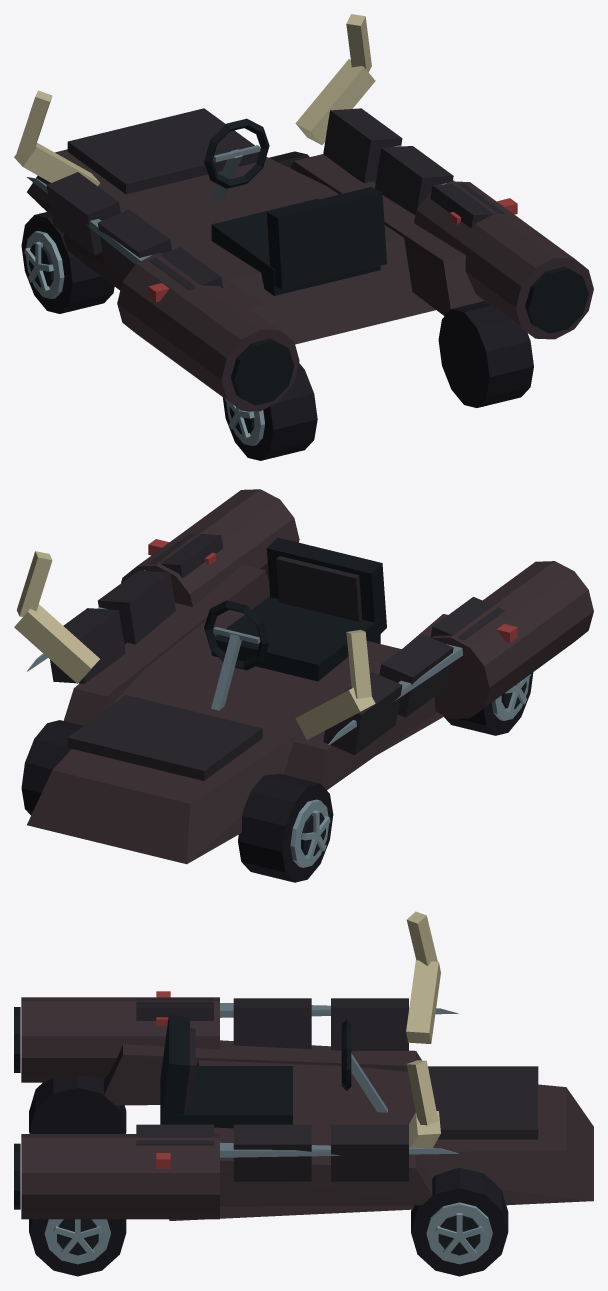
Rendered from kart.glb.
3 renders of one model, top to bottom at view 1: azimuth 30°, elevation 25°; view 2: azimuth 150°, elevation 25°; view 3: azimuth 270°, elevation 25°, orthographic. The views are drawn at different scales.
Visible parts, largest first — view 1: identity-speeder-speeder-long-cowl-and-stern-turbines, identity-speeder-motif-armor, identity-speeder-driver-cockpit, wheel-rear-right, identity-speeder-motif-horns, wheel-front-left, wheel-rear-left, identity-speeder-motif-swords; view 2: identity-speeder-speeder-long-cowl-and-stern-turbines, identity-speeder-driver-cockpit, identity-speeder-motif-armor, wheel-front-left, identity-speeder-motif-horns, wheel-front-right, wheel-rear-left, identity-speeder-motif-swords; view 3: identity-speeder-speeder-long-cowl-and-stern-turbines, identity-speeder-motif-armor, identity-speeder-driver-cockpit, wheel-front-right, identity-speeder-motif-horns, wheel-rear-left, wheel-rear-right, identity-speeder-motif-swords.
Boxes of the visible parts, x1=… form: identity-speeder-speeder-long-cowl-and-stern-turbines: x1=27, y1=108, x2=593, y2=411; identity-speeder-motif-armor: x1=46, y1=108, x2=504, y2=290; identity-speeder-driver-cockpit: x1=204, y1=118, x2=386, y2=295; wheel-rear-right: x1=438, y1=301, x2=533, y2=407; identity-speeder-motif-horns: x1=14, y1=14, x2=375, y2=186; wheel-front-left: x1=21, y1=211, x2=114, y2=313; wheel-rear-left: x1=223, y1=363, x2=317, y2=460; identity-speeder-motif-swords: x1=27, y1=145, x2=517, y2=301; identity-speeder-speeder-long-cowl-and-stern-turbines: x1=27, y1=489, x2=593, y2=864; identity-speeder-driver-cockpit: x1=204, y1=537, x2=386, y2=710; identity-speeder-motif-armor: x1=50, y1=533, x2=504, y2=755; wheel-front-left: x1=238, y1=773, x2=333, y2=882; identity-speeder-motif-horns: x1=14, y1=551, x2=375, y2=739; wheel-front-right: x1=21, y1=720, x2=83, y2=815; wheel-rear-left: x1=444, y1=672, x2=533, y2=735; identity-speeder-motif-swords: x1=27, y1=539, x2=517, y2=744; identity-speeder-speeder-long-cowl-and-stern-turbines: x1=14, y1=997, x2=593, y2=1220; identity-speeder-motif-armor: x1=136, y1=998, x2=408, y2=1181; identity-speeder-driver-cockpit: x1=160, y1=1015, x2=387, y2=1128; wheel-front-right: x1=411, y1=1167, x2=508, y2=1276; identity-speeder-motif-horns: x1=406, y1=911, x2=440, y2=1147; wheel-rear-left: x1=29, y1=1075, x2=126, y2=1133; wheel-rear-right: x1=29, y1=1219, x2=126, y2=1276; identity-speeder-motif-swords: x1=156, y1=991, x2=458, y2=1168.
Size of the model in its own units: 2.1 by 1.29 by 2.98.
